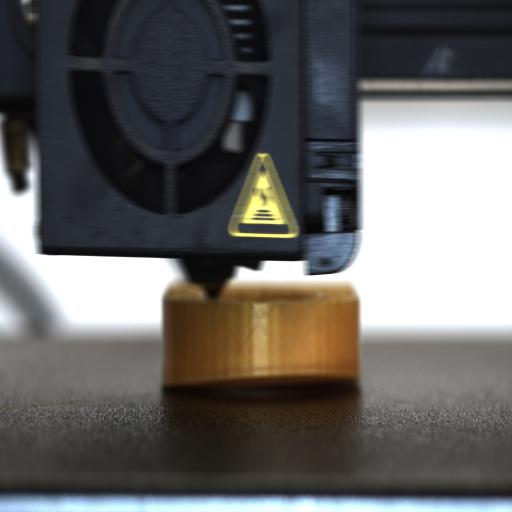warp: (164, 353, 359, 399)
